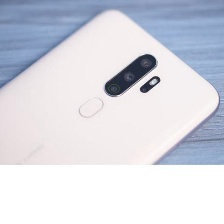phone: (0, 3, 224, 224)
